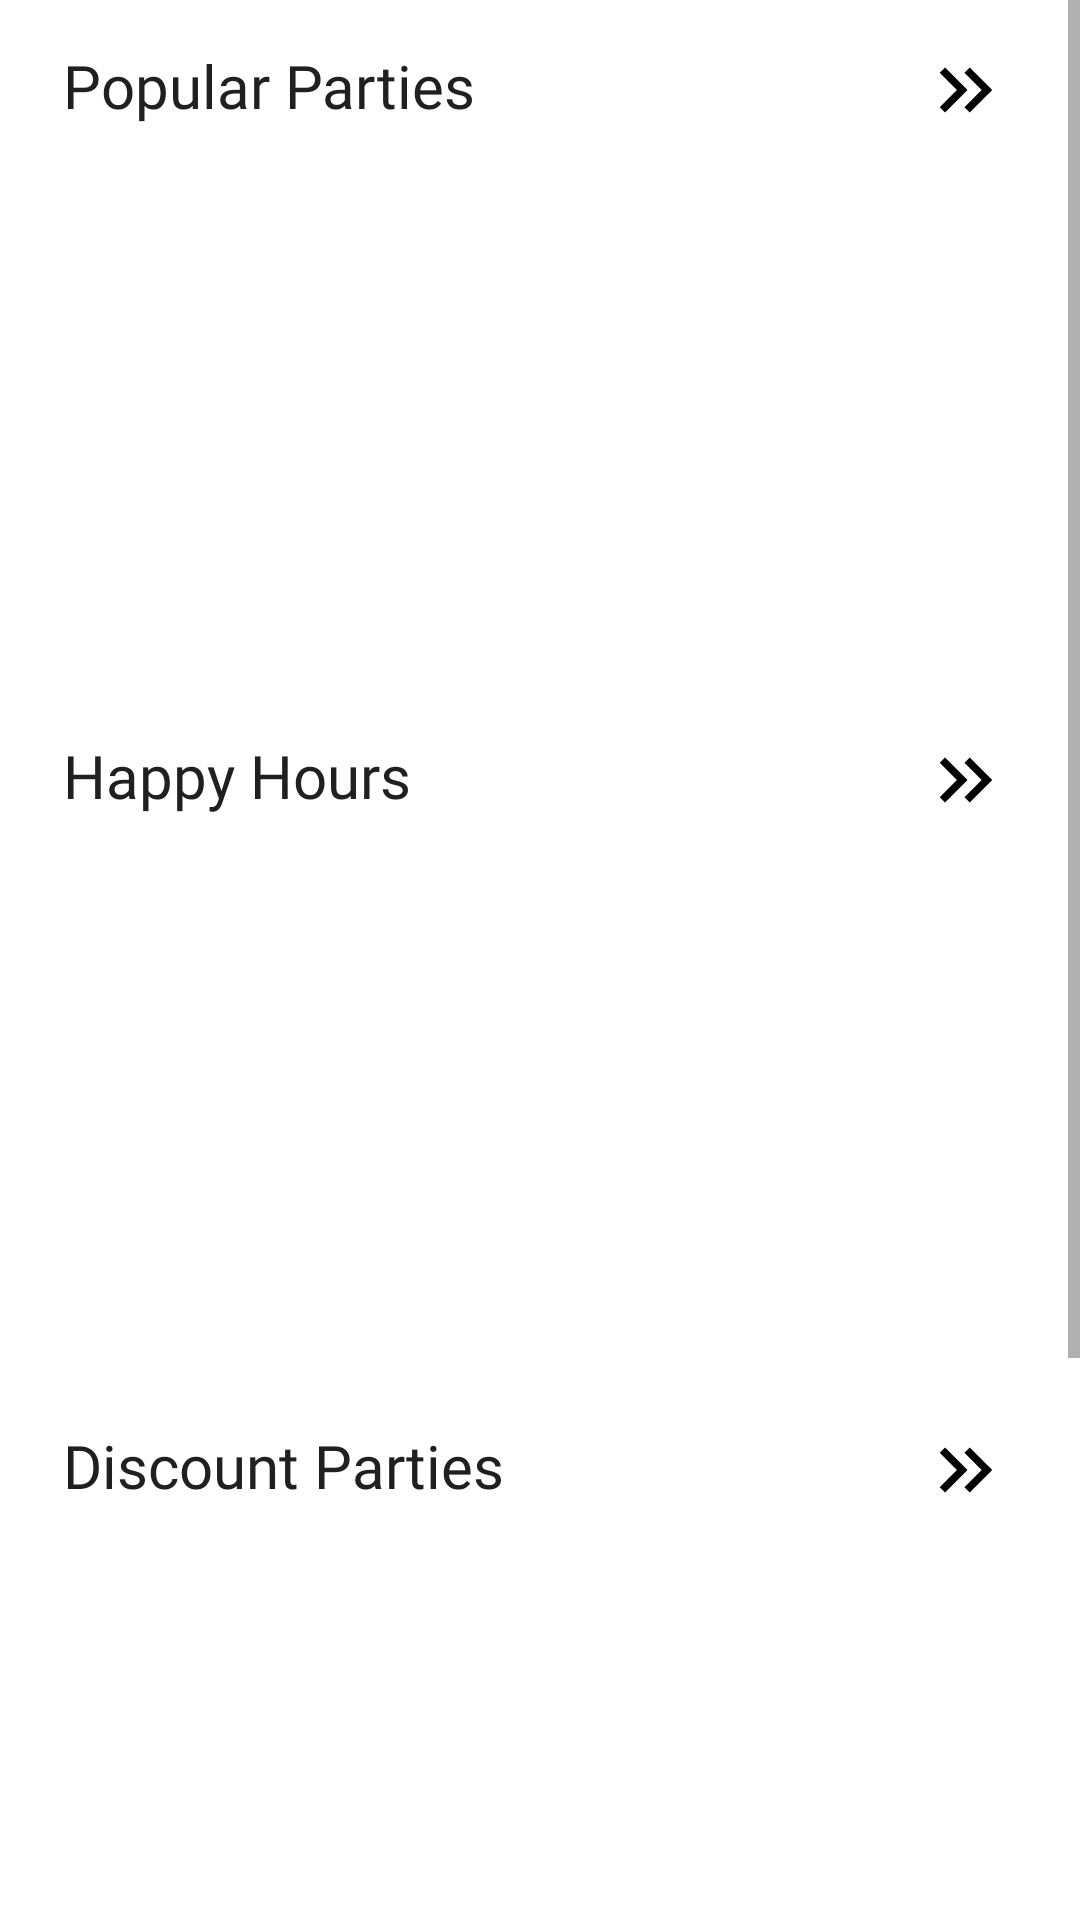

Icon click points for this 1080px x 1920px phone screenshot, format (x,y):
arrow: (966,90), (966,780), (966,1470)
